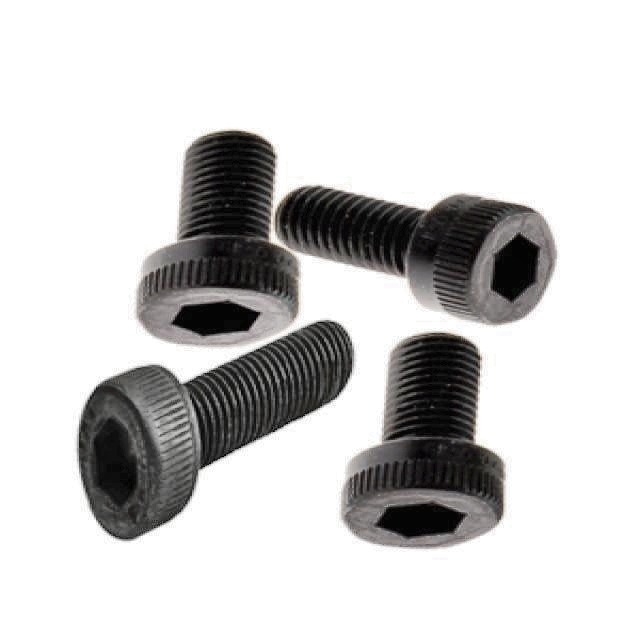allen: (77, 376, 195, 536), (451, 201, 557, 323), (345, 472, 499, 548), (137, 274, 295, 346)
